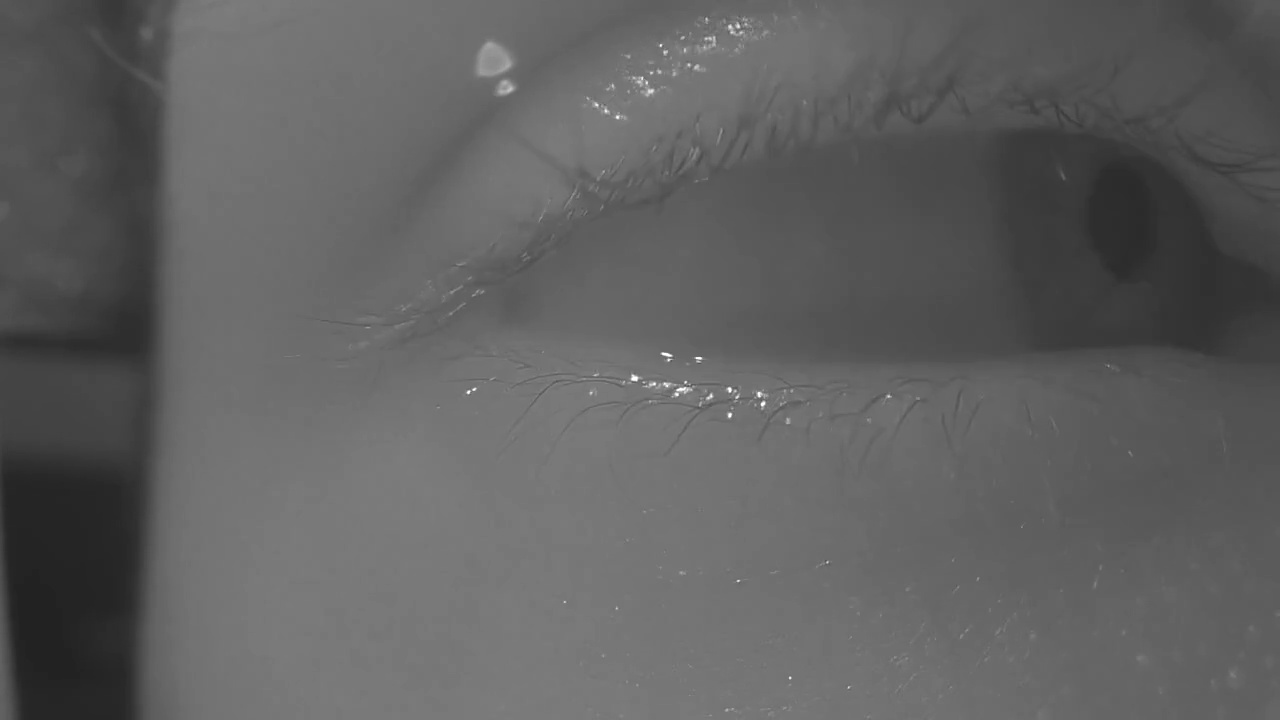pupil: (1087, 165, 1155, 280)
